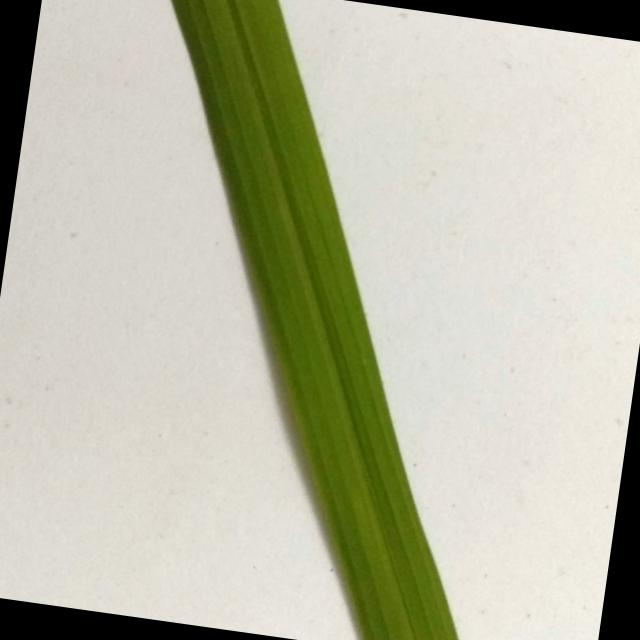Rice_Healthy: (171, 0, 458, 640)
